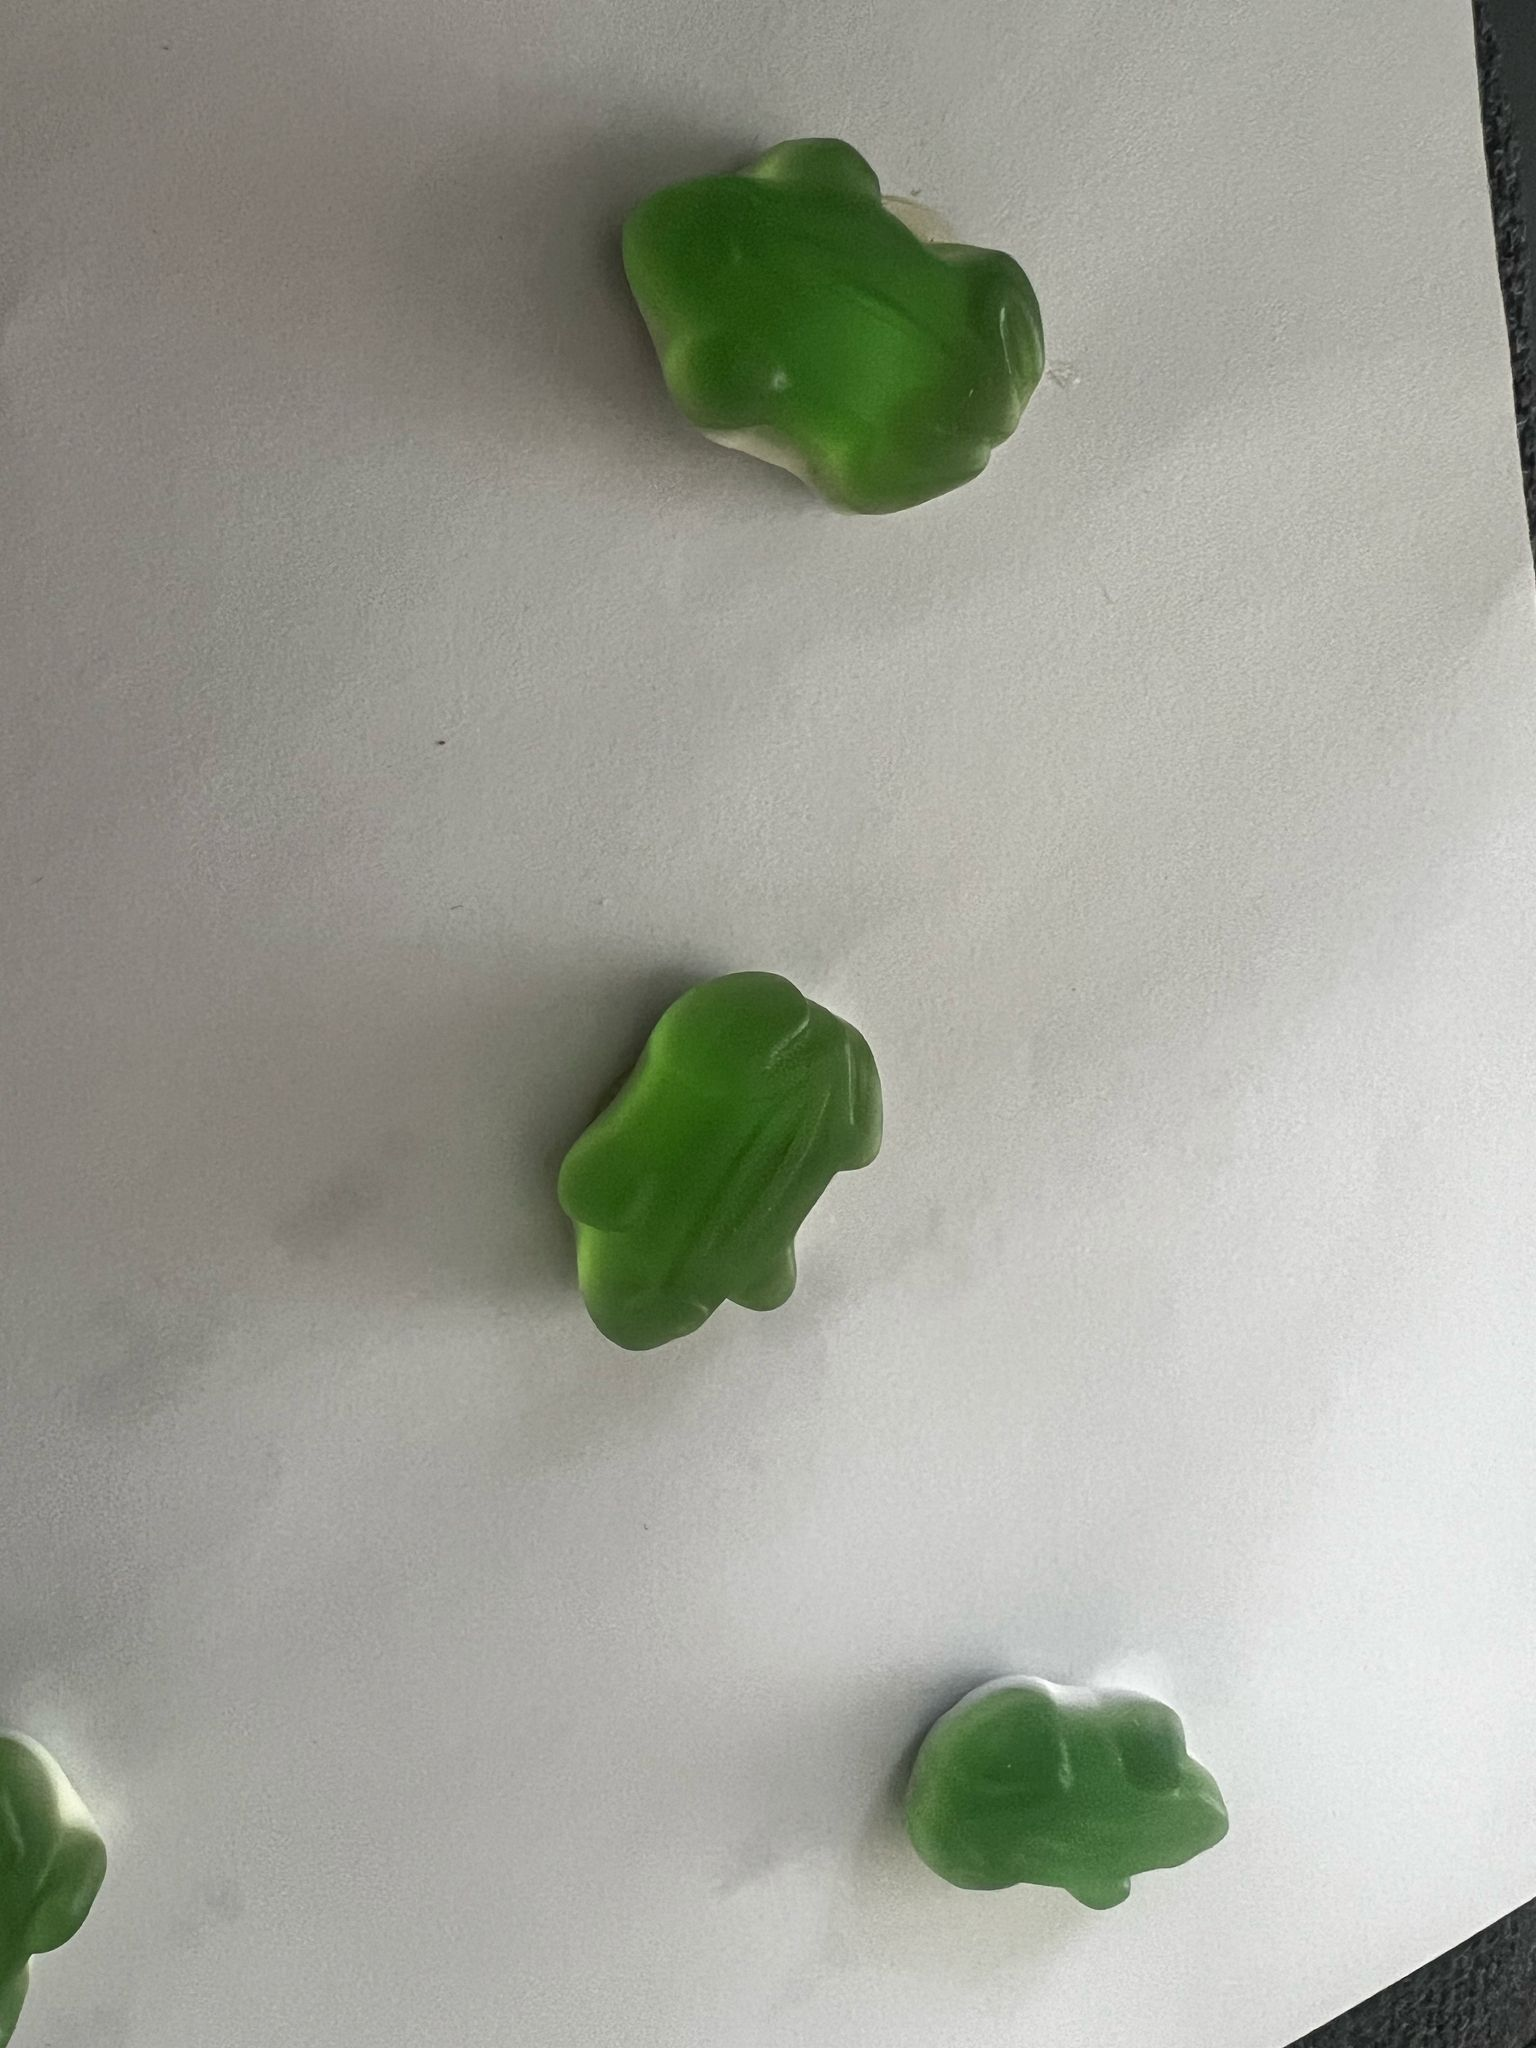frog: (584, 124, 1071, 527), (537, 963, 899, 1366), (900, 1663, 1233, 1917)
